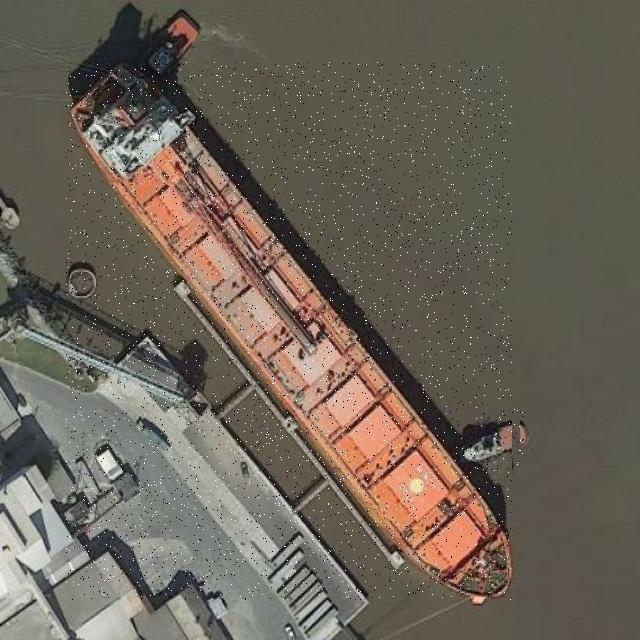boat: (66, 62, 512, 600), (458, 407, 525, 474)
